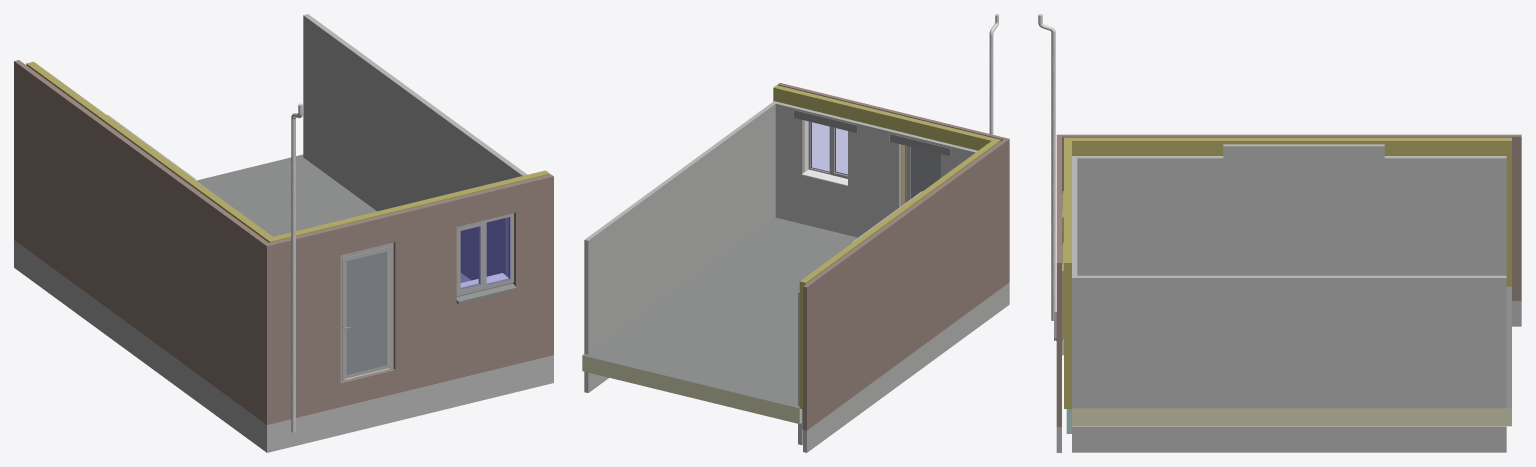
Rendered from 00_standard.gltf.
3 views of the same model, side by side, from view 1: azimuth 30°, elevation 25°; view 2: azimuth 150°, elevation 25°; view 3: azimuth 270°, elevation 25° (orthographic). The views are drawn at different scales.
Parts seen in each view (by area): view 1: [3322402]21_metselwerk_oranje_100, [3322401]21_metselwerk_oranje_100, [3322395]21_kalkzandsteen_100, [3322553]21_kalkzandsteen_100, [3333947]23_kanaalplaatvloer_260, [3322550]21_kalkzandsteen_100, [3322556]21_metselwerk_oranje_100, [3322557]21_metselwerk_oranje_100, [3322449]binnendraaiend_alcoa, [3322400]21_isolatie_mineraal_150, [3322879]80mm Knik verdieping, [3322399]21_isolatie_mineraal_150 (+5 smaller); view 2: [3333947]23_kanaalplaatvloer_260, [3322402]21_metselwerk_oranje_100, [3322395]21_kalkzandsteen_100, [3322393]21_kalkzandsteen_100, [3322550]21_kalkzandsteen_100, [3322557]21_metselwerk_oranje_100, [3322399]21_isolatie_mineraal_150, [3322400]21_isolatie_mineraal_150, [3322401]21_metselwerk_oranje_100, [3322449]binnendraaiend_alcoa, [3322430]vast glas_alcoa, [3322879]80mm Knik verdieping (+3 smaller); view 3: [3322395]21_kalkzandsteen_100, [3322397]21_kalkzandsteen_100, [3322551]21_kalkzandsteen_100, [3333947]23_kanaalplaatvloer_260, [3322400]21_isolatie_mineraal_150, [3322402]21_metselwerk_oranje_100, [3322399]21_isolatie_mineraal_150, [3322401]21_metselwerk_oranje_100, [3322879]80mm Knik verdieping, [3322393]21_kalkzandsteen_100.
Part boxes in pixels (x1,y1,x2,y2): [3322402]21_metselwerk_oranje_100: (14,60,268,398); [3322401]21_metselwerk_oranje_100: (264,174,553,401); [3322395]21_kalkzandsteen_100: (303,14,527,280); [3322553]21_kalkzandsteen_100: (264,355,553,452); [3333947]23_kanaalplaatvloer_260: (196,154,471,282); [3322550]21_kalkzandsteen_100: (14,240,264,450); [3322556]21_metselwerk_oranje_100: (264,331,553,424); [3322557]21_metselwerk_oranje_100: (14,216,264,422); [3322449]binnendraaiend_alcoa: (343,251,389,379); [3322400]21_isolatie_mineraal_150: (26,61,272,239); [3322879]80mm Knik verdieping: (291,103,302,432); [3322399]21_isolatie_mineraal_150: (265,170,549,242); [3333947]23_kanaalplaatvloer_260: (582,217,857,424); [3322402]21_metselwerk_oranje_100: (803,139,1007,411); [3322395]21_kalkzandsteen_100: (584,103,775,354); [3322393]21_kalkzandsteen_100: (772,101,977,237); [3322550]21_kalkzandsteen_100: (803,284,1007,452); [3322557]21_metselwerk_oranje_100: (803,265,1007,430); [3322399]21_isolatie_mineraal_150: (773,85,1000,150); [3322400]21_isolatie_mineraal_150: (799,141,997,409); [3322401]21_metselwerk_oranje_100: (777,83,1009,264); [3322449]binnendraaiend_alcoa: (910,147,940,198); [3322430]vast glas_alcoa: (811,122,829,171); [3322879]80mm Knik verdieping: (989,14,998,134); [3322395]21_kalkzandsteen_100: (1077,275,1506,408); [3322397]21_kalkzandsteen_100: (1077,144,1506,275); [3322551]21_kalkzandsteen_100: (1077,426,1506,452); [3333947]23_kanaalplaatvloer_260: (1072,286,1511,426); [3322400]21_isolatie_mineraal_150: (1072,137,1511,286); [3322402]21_metselwerk_oranje_100: (1062,134,1521,278); [3322399]21_isolatie_mineraal_150: (1064,137,1071,408); [3322401]21_metselwerk_oranje_100: (1056,134,1061,405); [3322879]80mm Knik verdieping: (1038,14,1055,320); [3322393]21_kalkzandsteen_100: (1072,156,1077,408).
Size of the model in its own units: 5.81 by 6.75 by 9.23.
